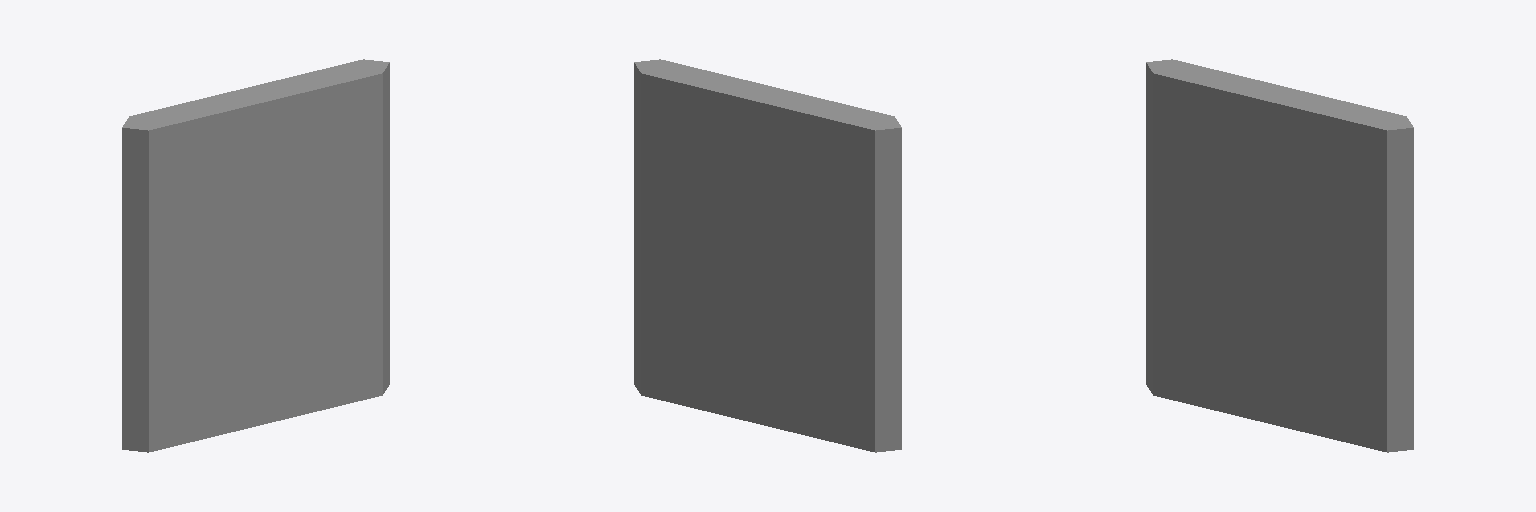
The model's file is wall29.obj.
3 renders of one model, left to right at view 1: azimuth 30°, elevation 25°; view 2: azimuth 150°, elevation 25°; view 3: azimuth 330°, elevation 25°, orthographic.
Parts seen in each view (by area): view 1: Cube.033; view 2: Cube.033; view 3: Cube.033.
Boxes of the visible parts, x1,y1,x2,y2 form: Cube.033: [122, 59, 389, 452]; Cube.033: [634, 59, 901, 452]; Cube.033: [1146, 59, 1413, 452].
Bounding box in the file's own units: 2.5 × 2.88 × 0.3125.